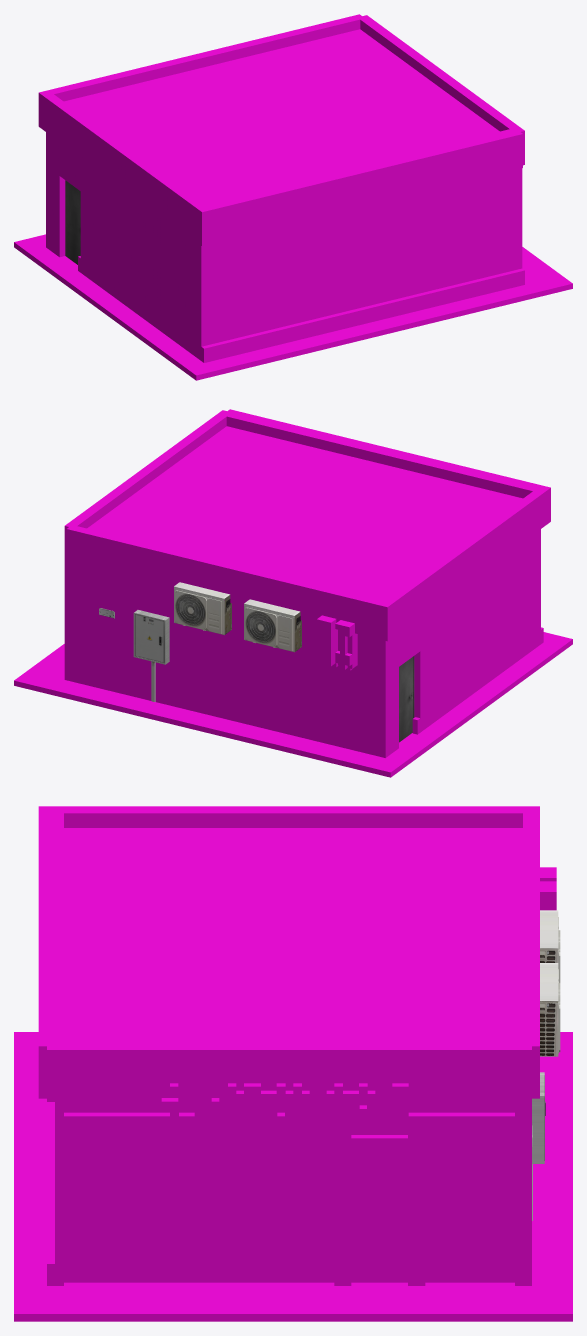
3 renders of one model, top to bottom at view 1: azimuth 30°, elevation 25°; view 2: azimuth 150°, elevation 25°; view 3: azimuth 270°, elevation 25°, orthographic. The views are drawn at different scales.
Visible parts, largest first — view 1: col_wall_12, col_wall_14, col_wall_11, col_wall_13, col_wall_10, col_wall_02, col_roof_77, col_wall_09, col_roof_73, col_roof_69, col_roof_76, col_roof_68 (+59 smaller); view 2: col_wall_01, col_wall_03, col_wall_04, col_wall_05, col_wall_09, col_wall_02, col_roof_76, col_roof_68, col_roof_73, col_roof_77, col_roof_72, col_roof_69 (+55 smaller); view 3: col_wall_08, col_wall_07, col_wall_06, col_roof_02, col_roof_04, col_roof_72, col_roof_69, col_roof_68, col_roof_73, col_roof_65, col_roof_64, col_roof_67 (+65 smaller).
Part boxes in pixels (left/top/right/bottom): col_wall_12: left=280, top=232, right=354, bottom=327; col_wall_14: left=429, top=196, right=503, bottom=290; col_wall_11: left=206, top=250, right=280, bottom=345; col_wall_13: left=355, top=214, right=429, bottom=309; col_wall_10: left=163, top=242, right=206, bottom=346; col_wall_02: left=121, top=226, right=163, bottom=333; col_roof_77: left=355, top=93, right=471, bottom=142; col_wall_09: left=80, top=181, right=120, bottom=287; col_roof_73: left=281, top=111, right=396, bottom=160; col_roof_69: left=206, top=129, right=322, bottom=178; col_roof_76: left=312, top=62, right=428, bottom=111; col_roof_68: left=164, top=98, right=280, bottom=147; col_wall_01: left=310, top=663, right=388, bottom=757; col_wall_03: left=236, top=645, right=311, bottom=739; col_wall_04: left=162, top=628, right=236, bottom=721; col_wall_05: left=87, top=608, right=161, bottom=703; col_wall_09: left=415, top=612, right=460, bottom=718; col_wall_02: left=460, top=595, right=503, bottom=702; col_roof_76: left=131, top=478, right=247, bottom=527; col_roof_68: left=280, top=515, right=396, bottom=563; col_roof_73: left=248, top=465, right=364, bottom=514; col_roof_77: left=174, top=447, right=290, bottom=496; col_roof_72: left=206, top=496, right=322, bottom=545; col_roof_69: left=323, top=483, right=438, bottom=532; col_wall_08: left=120, top=1164, right=252, bottom=1282; col_wall_07: left=252, top=1164, right=383, bottom=1282; col_wall_06: left=383, top=1164, right=514, bottom=1282; col_roof_02: left=383, top=1042, right=515, bottom=1164; col_roof_04: left=120, top=1042, right=252, bottom=1164; col_roof_72: left=268, top=936, right=400, bottom=991; col_roof_69: left=137, top=880, right=269, bottom=935; col_roof_68: left=268, top=880, right=400, bottom=935; col_roof_73: left=137, top=936, right=268, bottom=991; col_roof_65: left=137, top=828, right=269, bottom=880; col_roof_64: left=268, top=828, right=400, bottom=880; col_roof_67: left=400, top=880, right=522, bottom=935.
Bounding box in the file's own units: 3.13 × 1.26 × 2.62.
19 materials, 13 textured.
